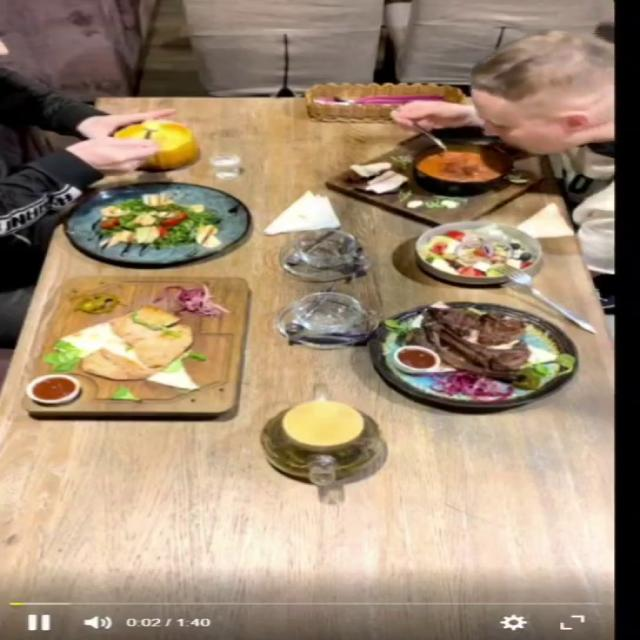alcohol: (191, 138, 257, 186)
meat: (367, 301, 579, 408)
salat: (62, 182, 250, 266), (414, 220, 544, 285)
soup: (324, 132, 544, 226), (98, 91, 178, 179)
tea: (280, 400, 364, 447)
